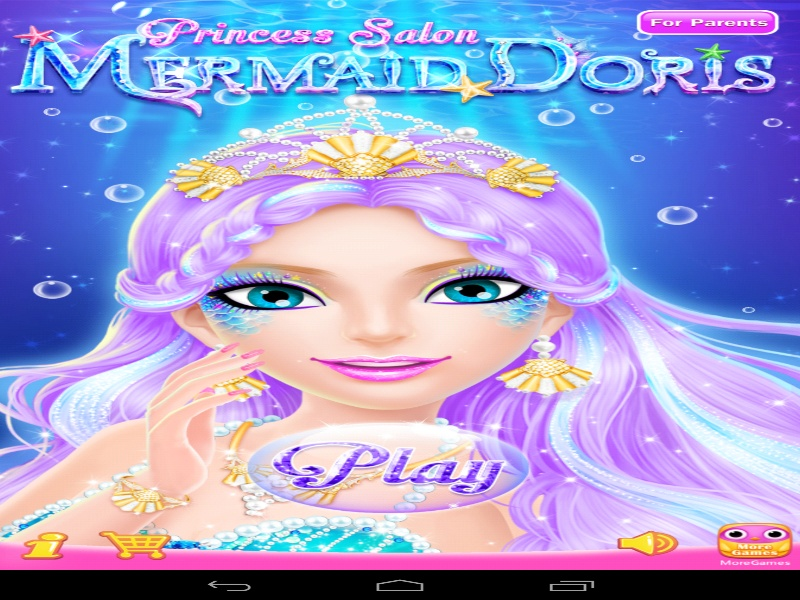Button: (716, 522, 793, 558), (716, 558, 793, 594)
Input: (0, 0, 800, 30)
